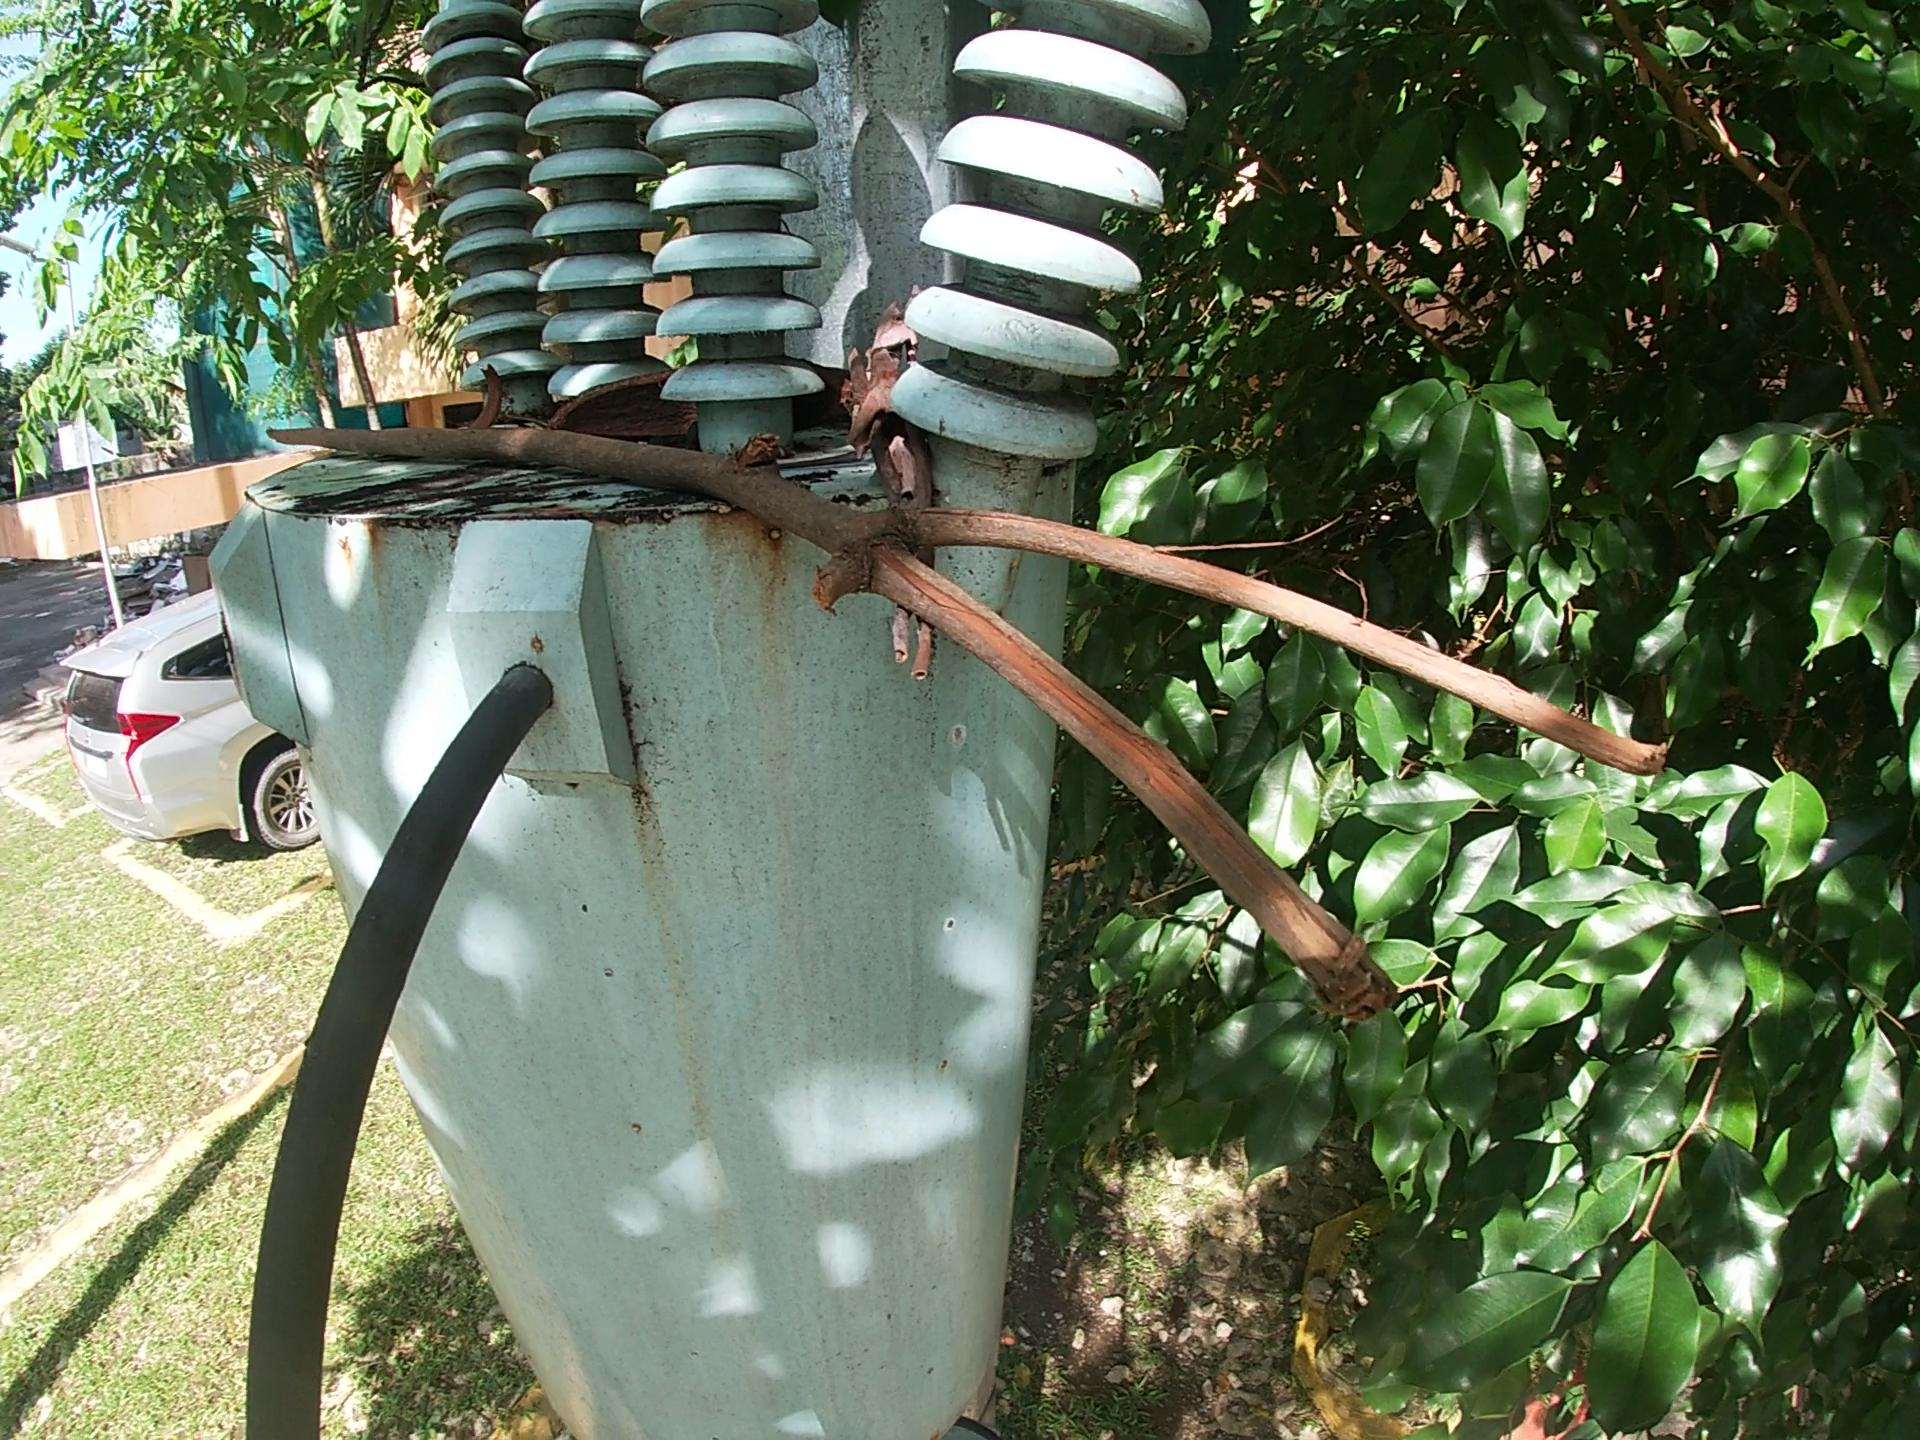mahogany fruit: (543, 355, 856, 451), (466, 362, 511, 430)
tree branch: (255, 413, 1677, 1036), (833, 293, 952, 685)
